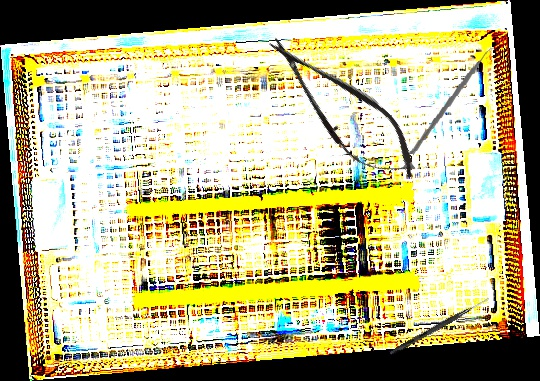Chopper: (408, 41, 503, 162)
Hook Surgical: (389, 295, 490, 357)
Micro Scissor: (250, 19, 433, 198)
